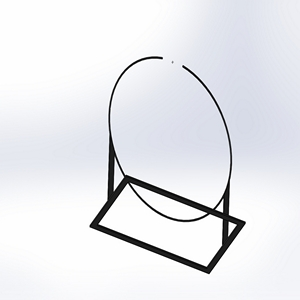circle: (87, 52, 247, 273)
